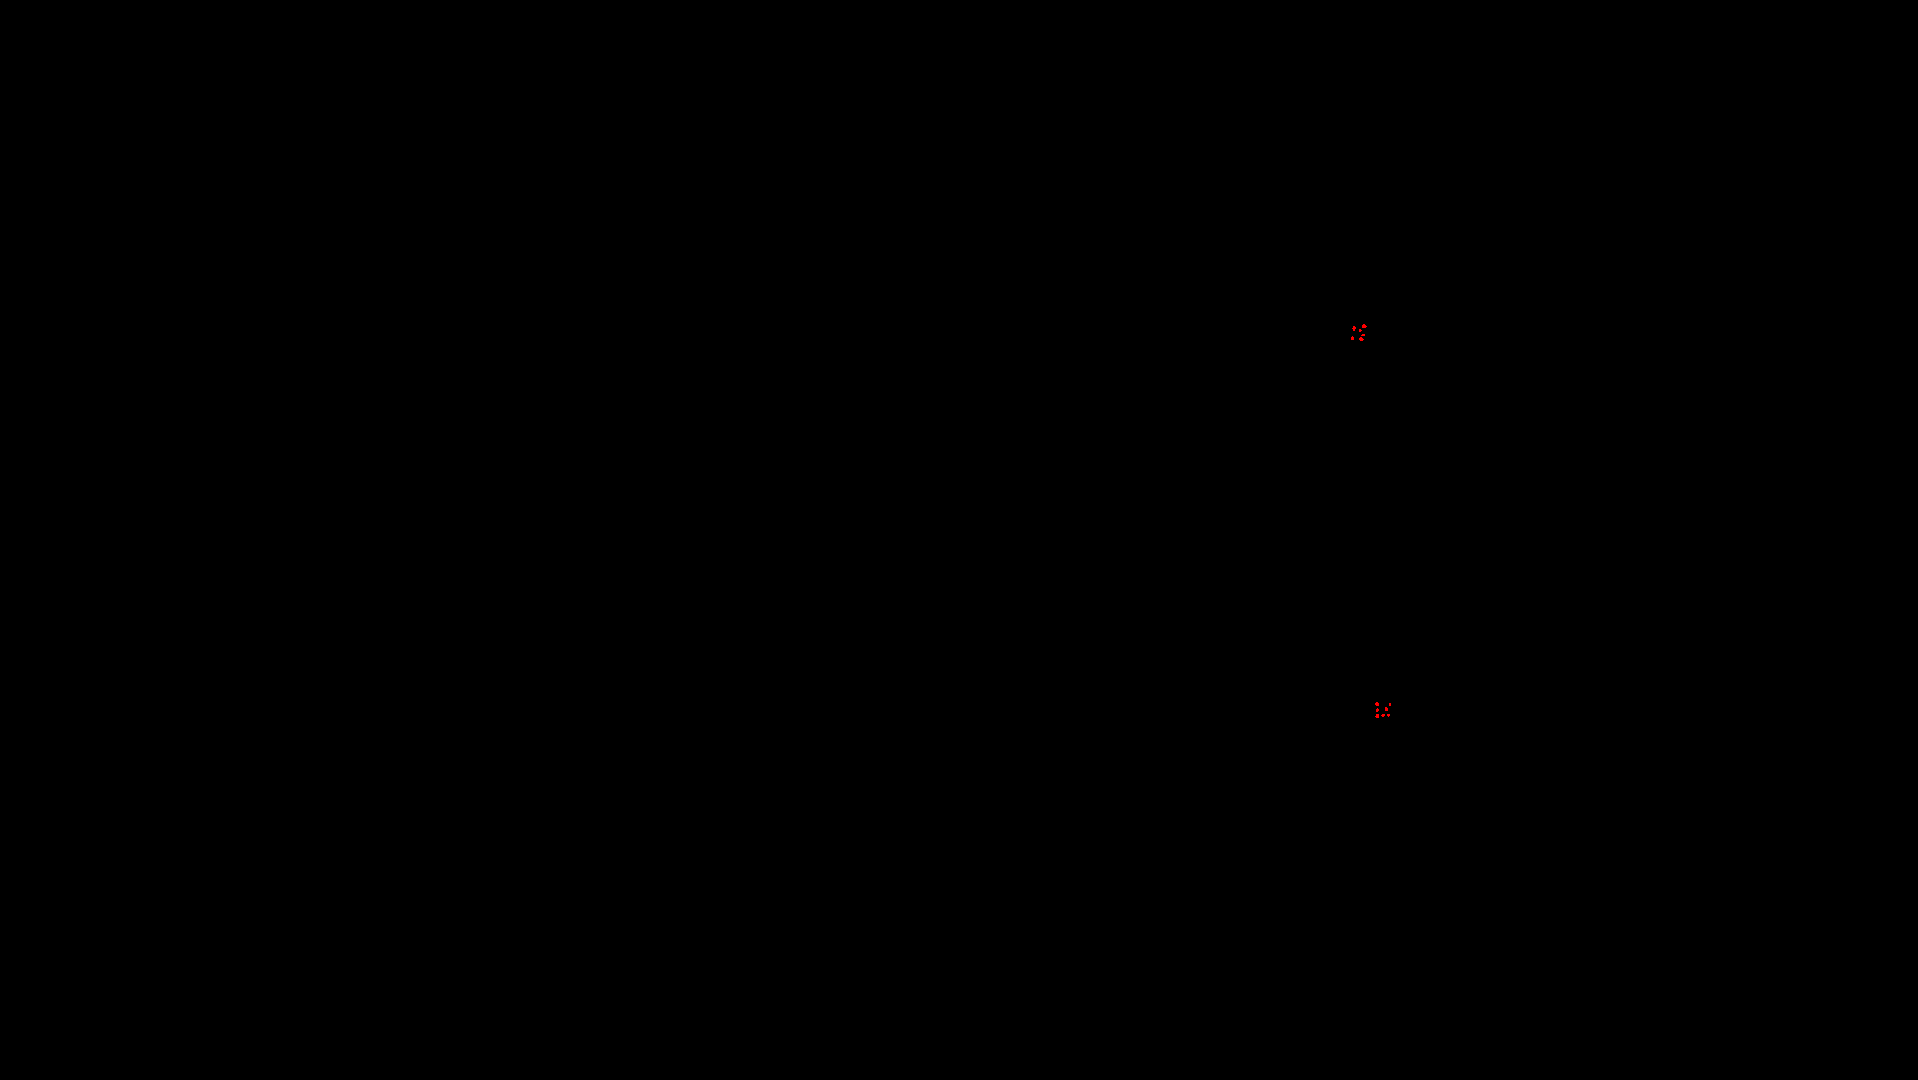Target: (1362, 324, 1367, 328), (1352, 327, 1356, 331), (1359, 337, 1363, 341), (1375, 702, 1379, 706), (1384, 707, 1388, 711), (1375, 714, 1379, 718), (1352, 336, 1354, 340), (1377, 709, 1379, 713), (1381, 714, 1384, 716), (1359, 329, 1362, 332), (1388, 703, 1391, 706), (1387, 714, 1390, 716), (1361, 335, 1365, 336)
